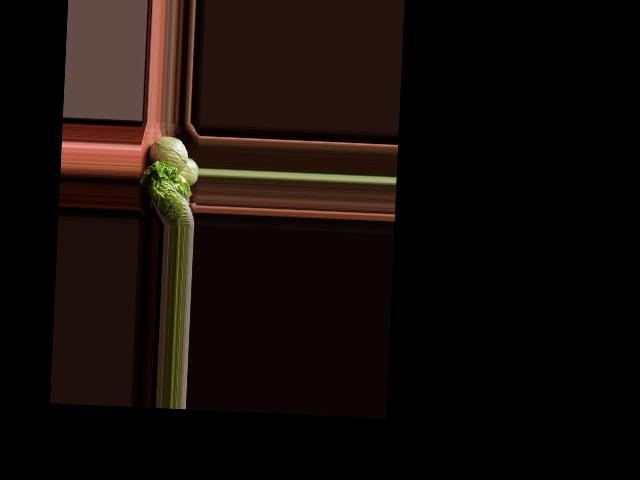lettuce: (136, 160, 195, 226)
